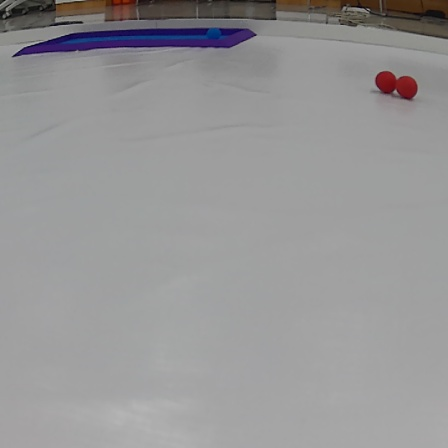blue: (208, 25, 222, 39)
blue_aim: (13, 30, 267, 59)
red: (396, 74, 420, 103), (371, 68, 396, 95)
